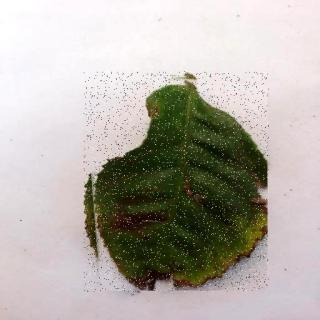Algal Leaf: (85, 73, 270, 293)
